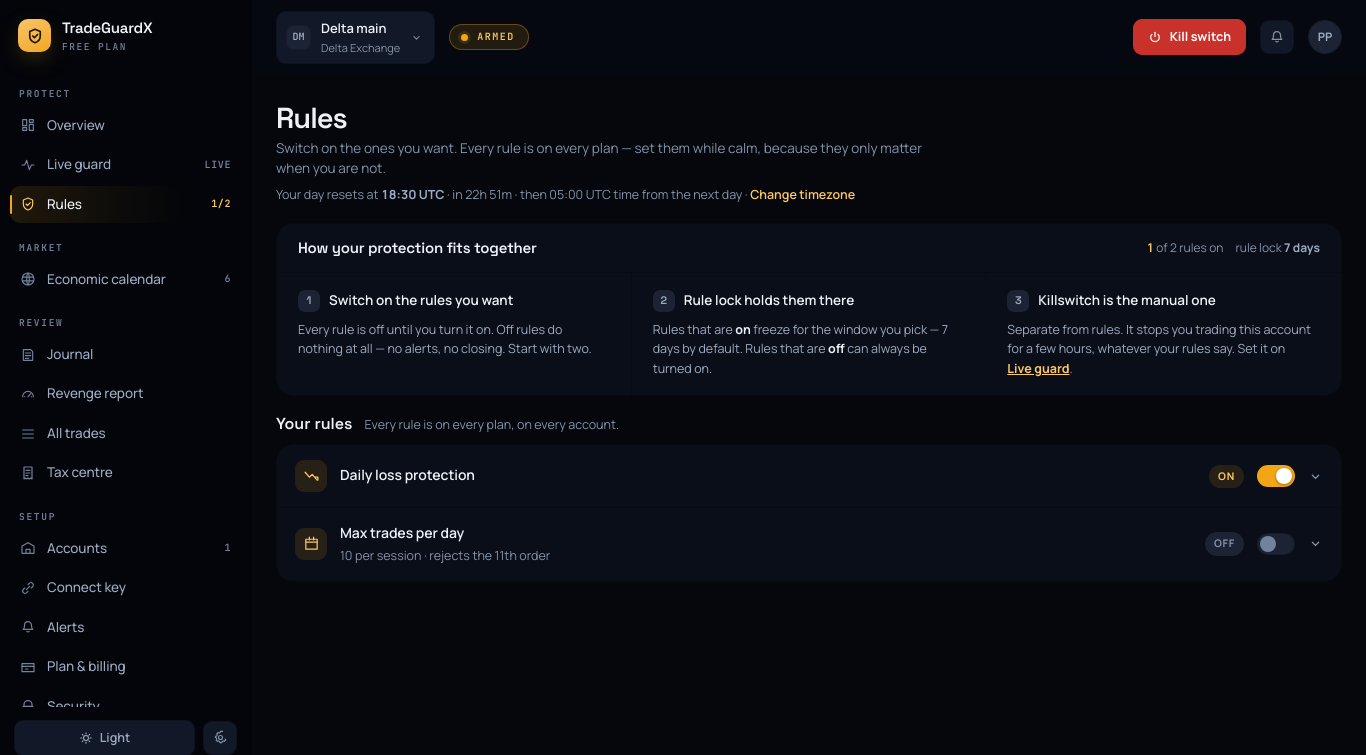
Test: dashboard shell › renders Rules with the explainer, derived counter and three toggle states
Expected: the text "Daily loss protection" is shown, x1=340 y1=465 x2=475 y2=484
Expected: the heading "How your protection fits together" is shown, x1=298 y1=239 x2=537 y2=257
Click the text "Max trades per day" at {"x": 402, "y": 533}, box x1=340 y1=523 x2=464 y2=542
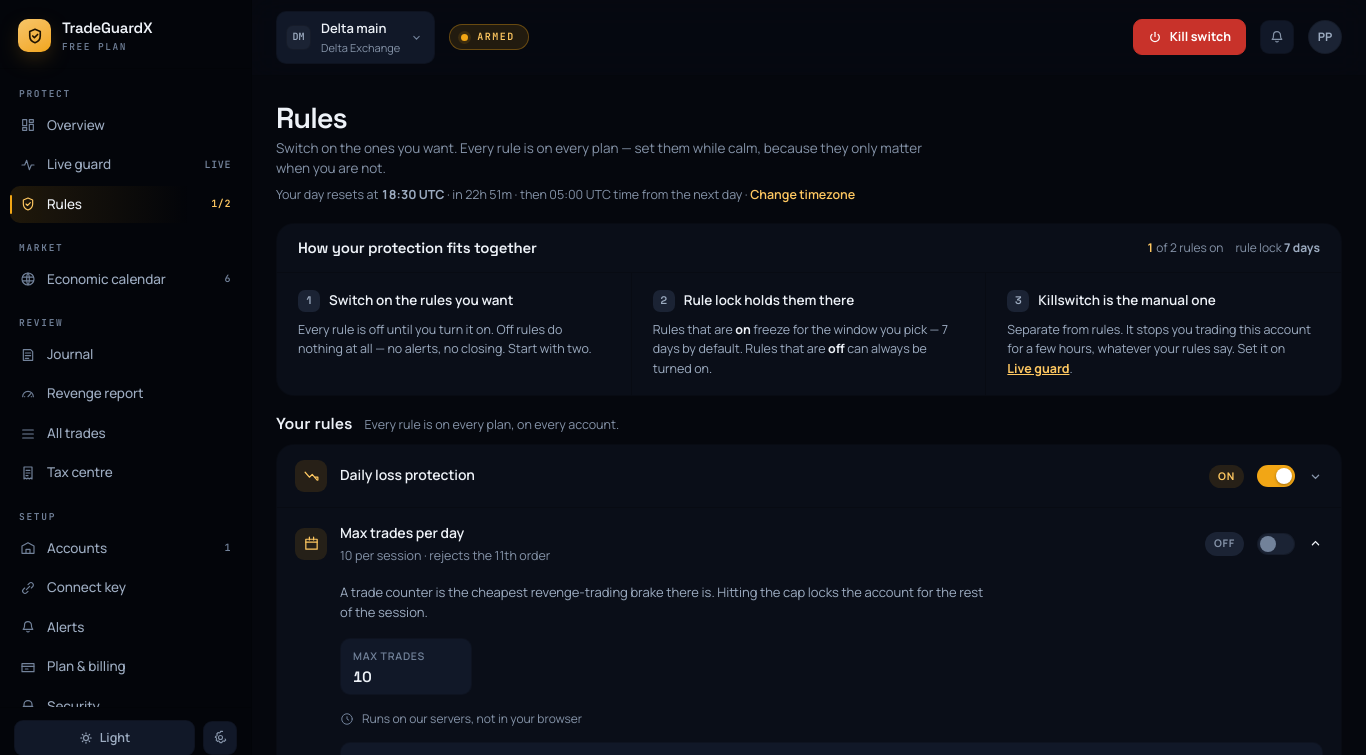
Expected: the text "Runs on our servers, not in your browser" is shown, x1=340 y1=710 x2=582 y2=728
